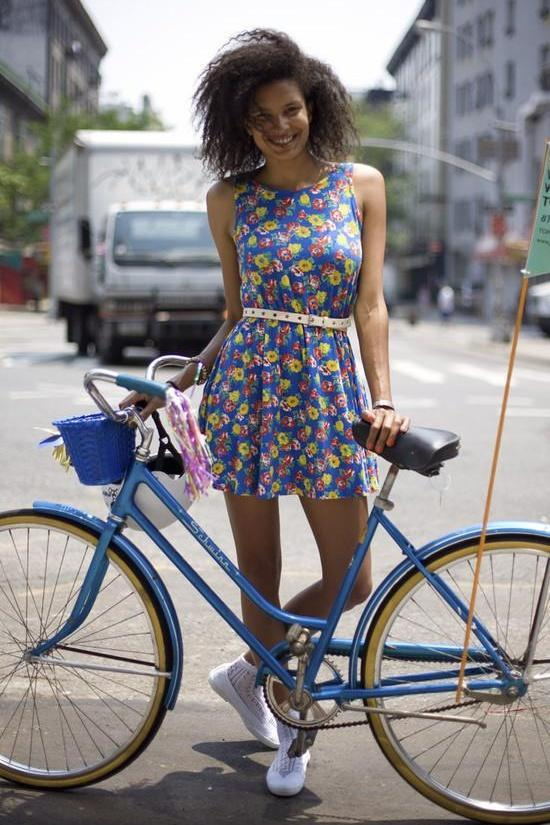dress: (202, 162, 384, 503)
